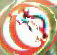Don't turn left: (5, 0, 54, 54)
